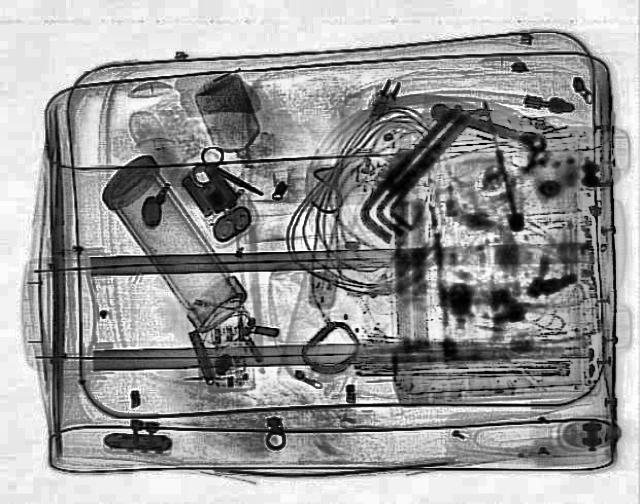Scissors: (178, 142, 278, 208)
